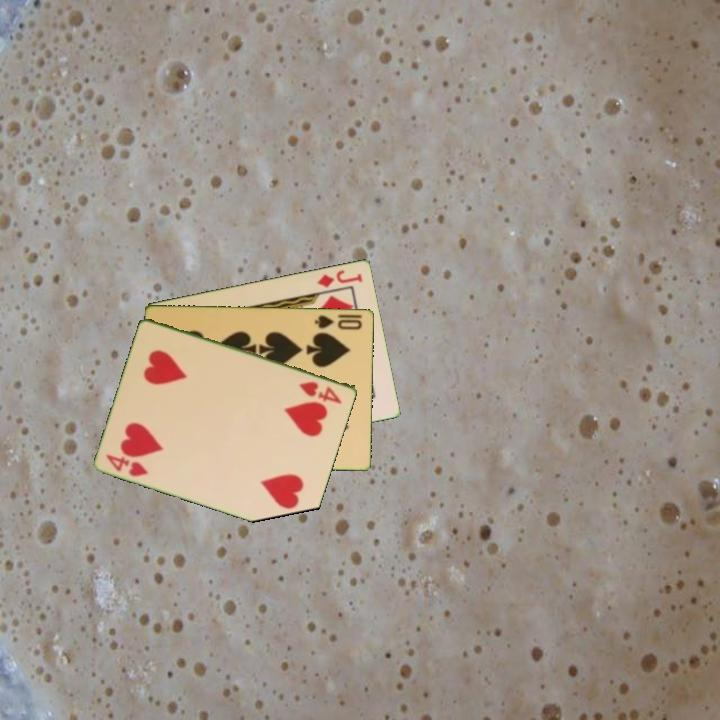10s: (312, 312, 365, 332)
4h: (296, 378, 345, 407), (103, 451, 152, 479)
Jd: (314, 266, 365, 290)
